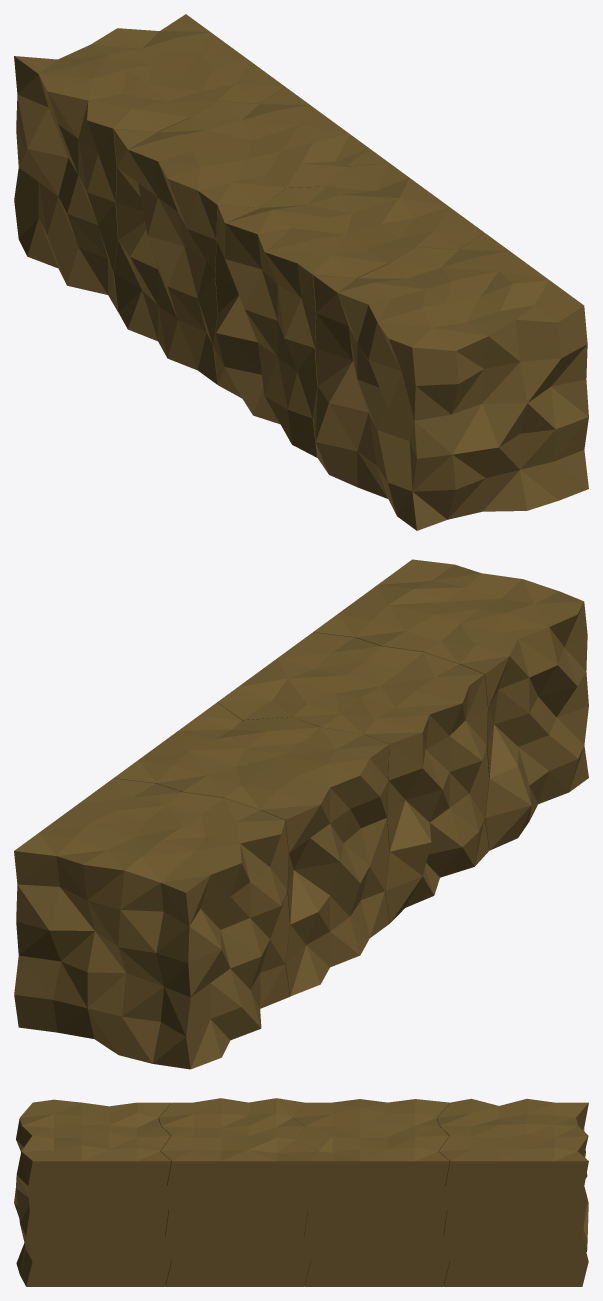
The model's file is SM_endpath_DE.fbx.
The picture shows the model from 3 angles, top to bottom: view 1: azimuth 30°, elevation 25°; view 2: azimuth 150°, elevation 25°; view 3: azimuth 270°, elevation 25°; orthographic projection. The views are drawn at different scales.
Parts seen in each view (by area): view 1: SM_endpath_1_DE, SM_endpath_rightmid_DE, SM_endpath_2_DE, SM_endpath_leftmid_DE; view 2: SM_endpath_2_DE, SM_endpath_rightmid_DE, SM_endpath_1_DE, SM_endpath_leftmid_DE; view 3: SM_endpath_1_DE, SM_endpath_2_DE, SM_endpath_rightmid_DE, SM_endpath_leftmid_DE.
Part boxes in pixels (left/top/right/bottom): SM_endpath_1_DE: left=313, top=233, right=588, bottom=530; SM_endpath_rightmid_DE: left=113, top=87, right=388, bottom=384; SM_endpath_2_DE: left=14, top=14, right=284, bottom=311; SM_endpath_leftmid_DE: left=213, top=163, right=484, bottom=457; SM_endpath_2_DE: left=14, top=778, right=289, bottom=1069; SM_endpath_rightmid_DE: left=114, top=702, right=389, bottom=996; SM_endpath_1_DE: left=313, top=559, right=588, bottom=850; SM_endpath_leftmid_DE: left=217, top=632, right=489, bottom=923; SM_endpath_1_DE: left=14, top=1099, right=171, bottom=1286; SM_endpath_2_DE: left=437, top=1098, right=588, bottom=1286; SM_endpath_rightmid_DE: left=293, top=1099, right=449, bottom=1286; SM_endpath_leftmid_DE: left=159, top=1098, right=317, bottom=1286.
Bounding box in the file's own units: 135 × 498 × 124.
